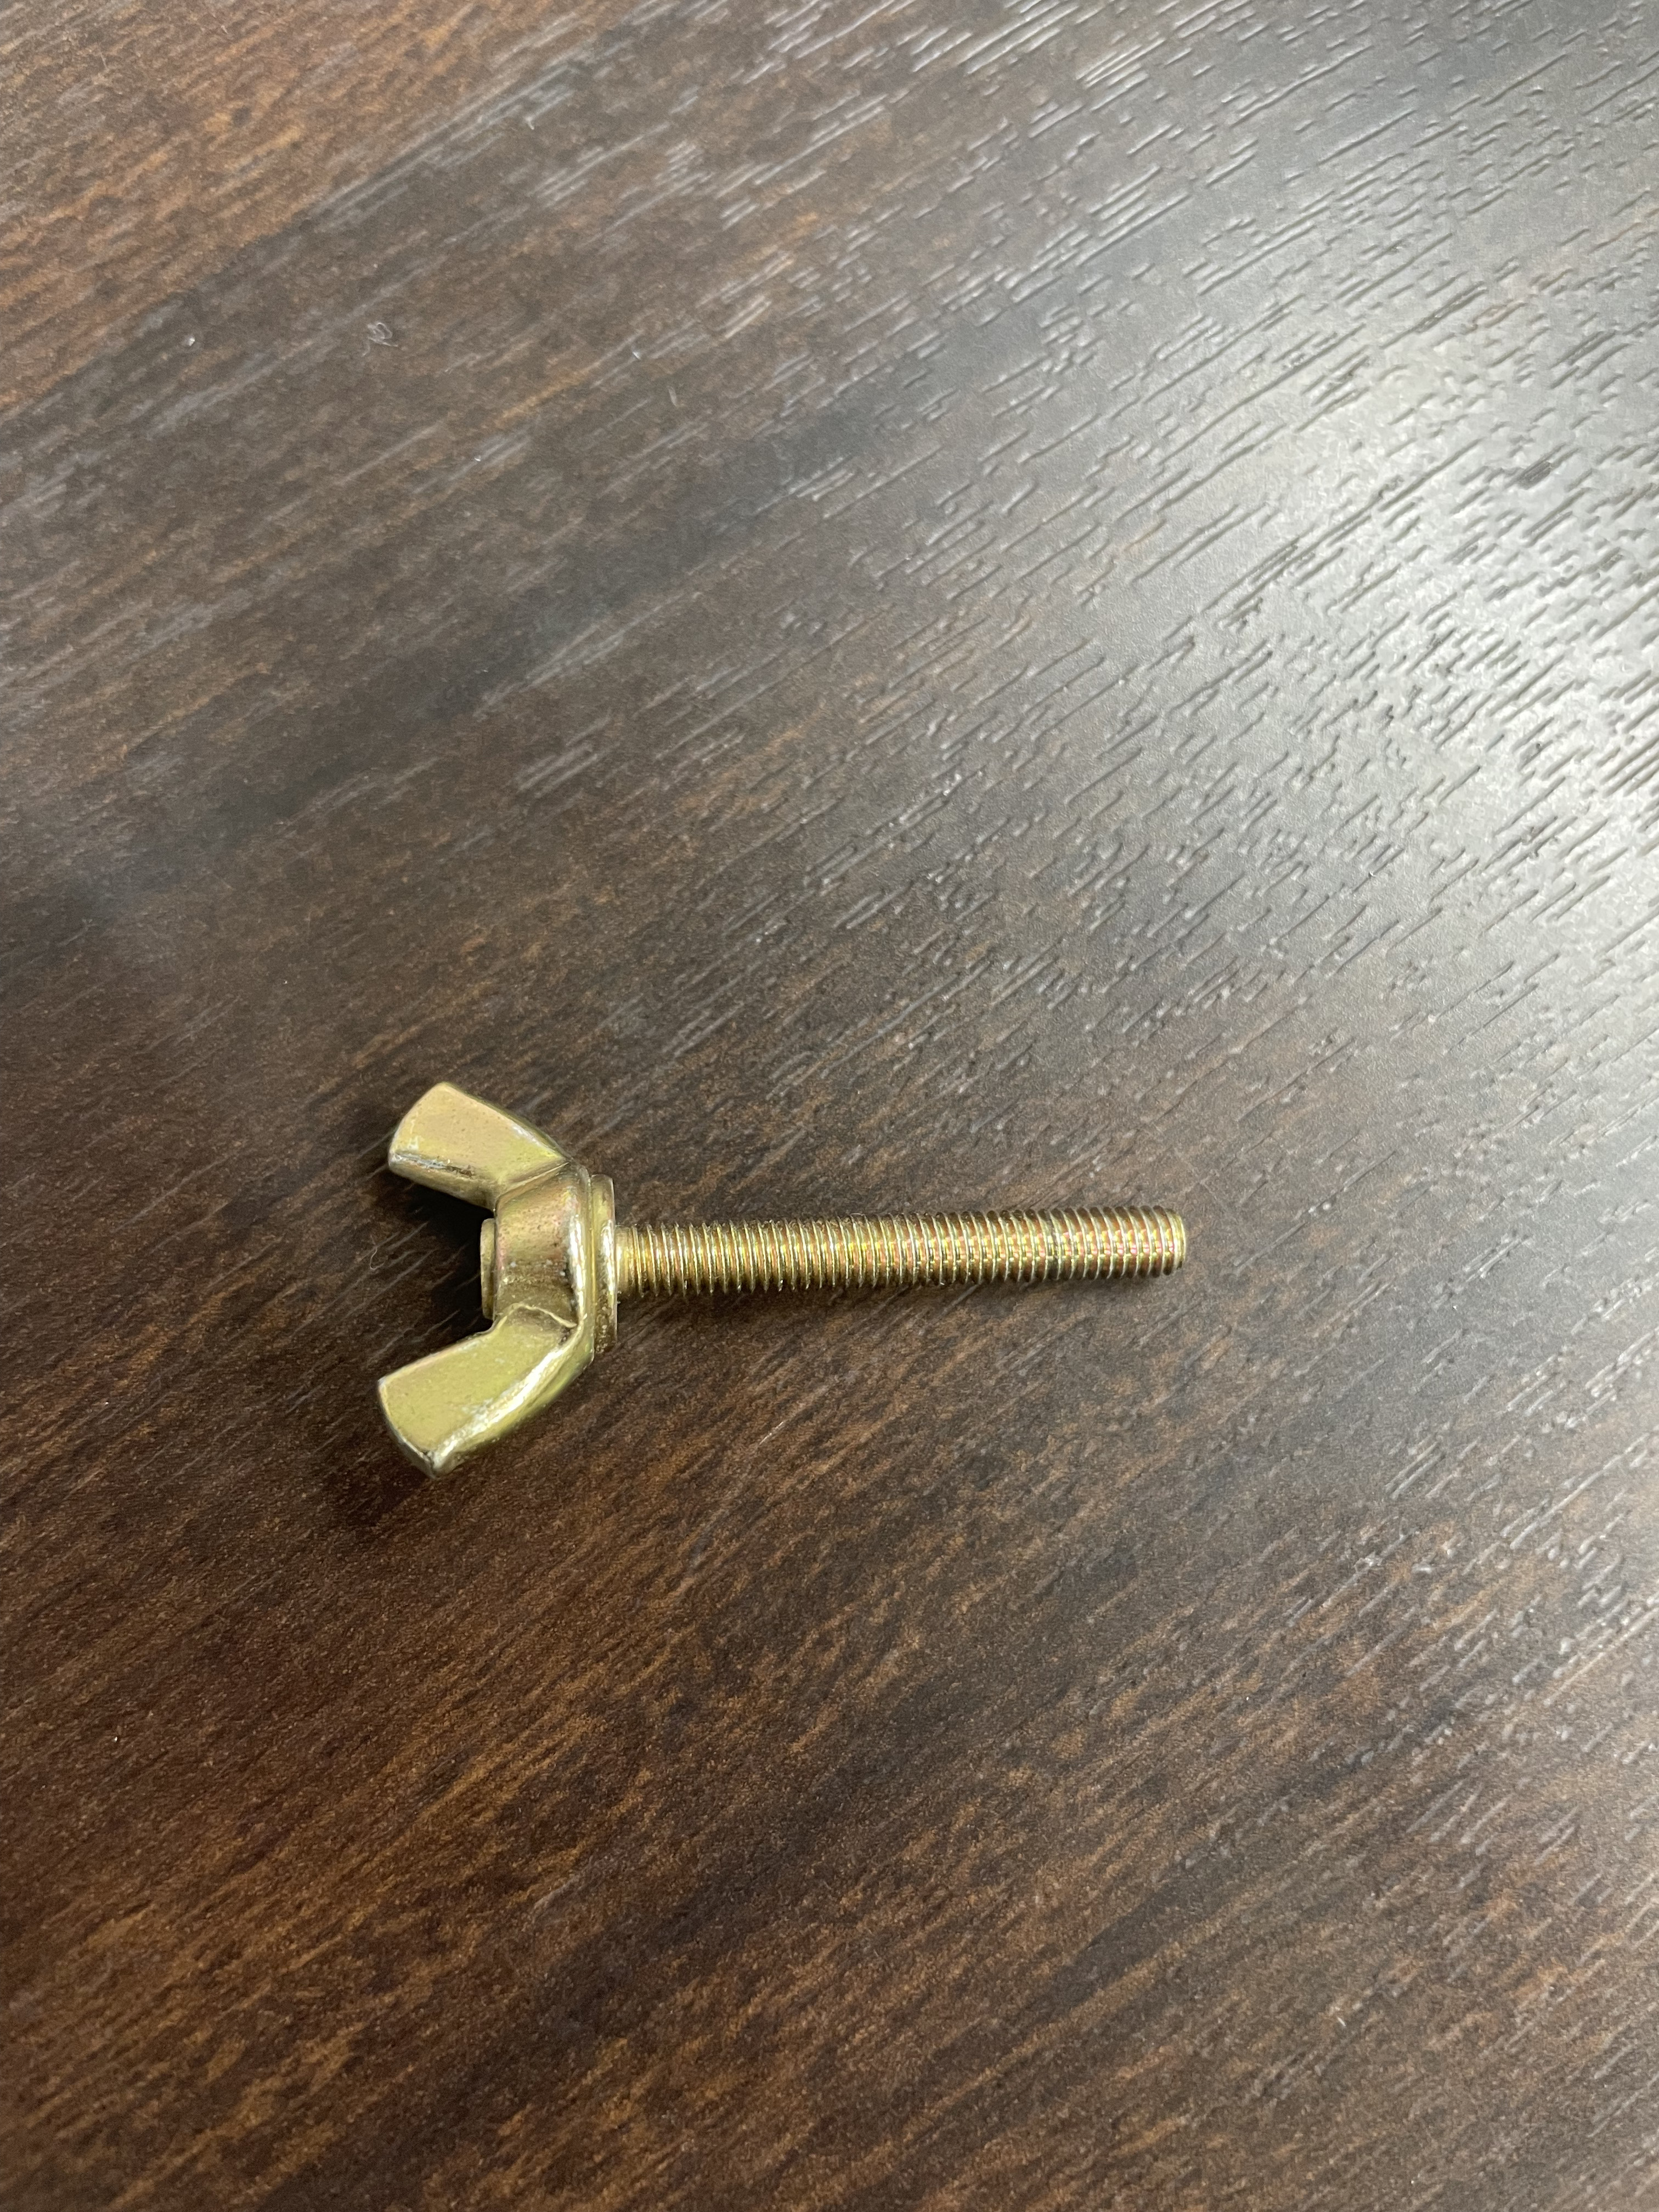screw0: (369, 1075, 1195, 1475)
